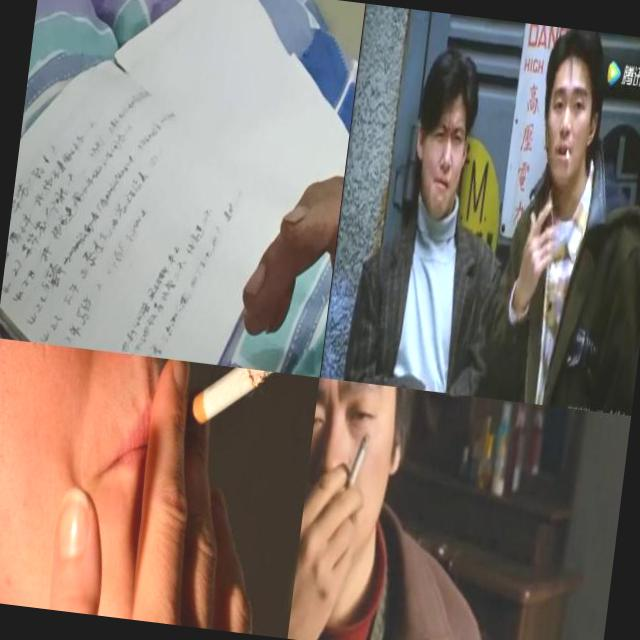cigarette: (178, 360, 290, 450), (342, 426, 374, 500), (560, 140, 574, 164)
